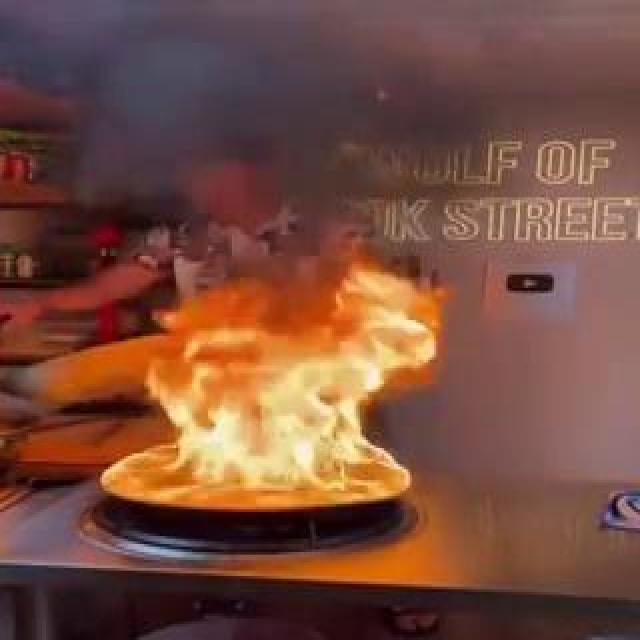Fire: (262, 318, 354, 390)
